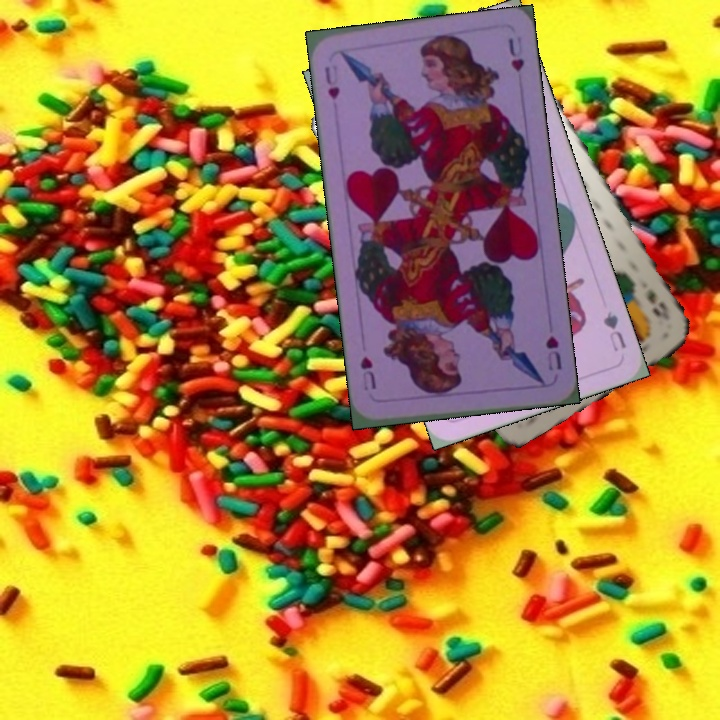EK: (642, 285, 673, 323)
GU: (599, 307, 629, 354)
HU: (320, 60, 343, 102), (542, 332, 564, 373)
